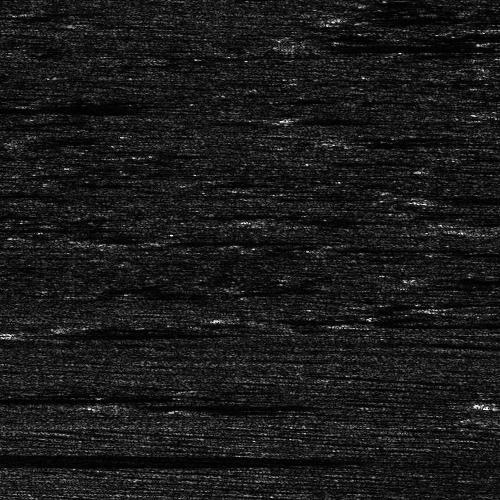object: (65, 399, 200, 412), (415, 301, 488, 314), (438, 222, 500, 235), (279, 41, 332, 50), (459, 398, 500, 409), (409, 270, 430, 287), (0, 331, 38, 340), (464, 411, 500, 420), (231, 315, 294, 320), (404, 199, 457, 202), (339, 138, 370, 141), (485, 110, 500, 115)
shadow: (133, 399, 348, 412), (306, 41, 500, 50), (420, 270, 500, 287), (0, 394, 135, 403), (0, 103, 133, 112), (2, 331, 122, 340), (263, 315, 443, 320), (0, 456, 283, 459), (451, 301, 500, 314), (355, 138, 496, 141), (360, 322, 500, 325), (0, 120, 56, 127), (431, 199, 500, 202)
